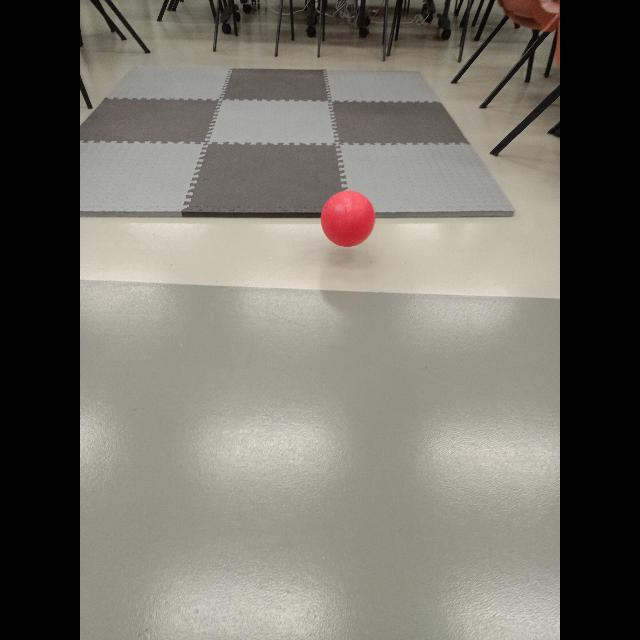R: (319, 190, 377, 248)
